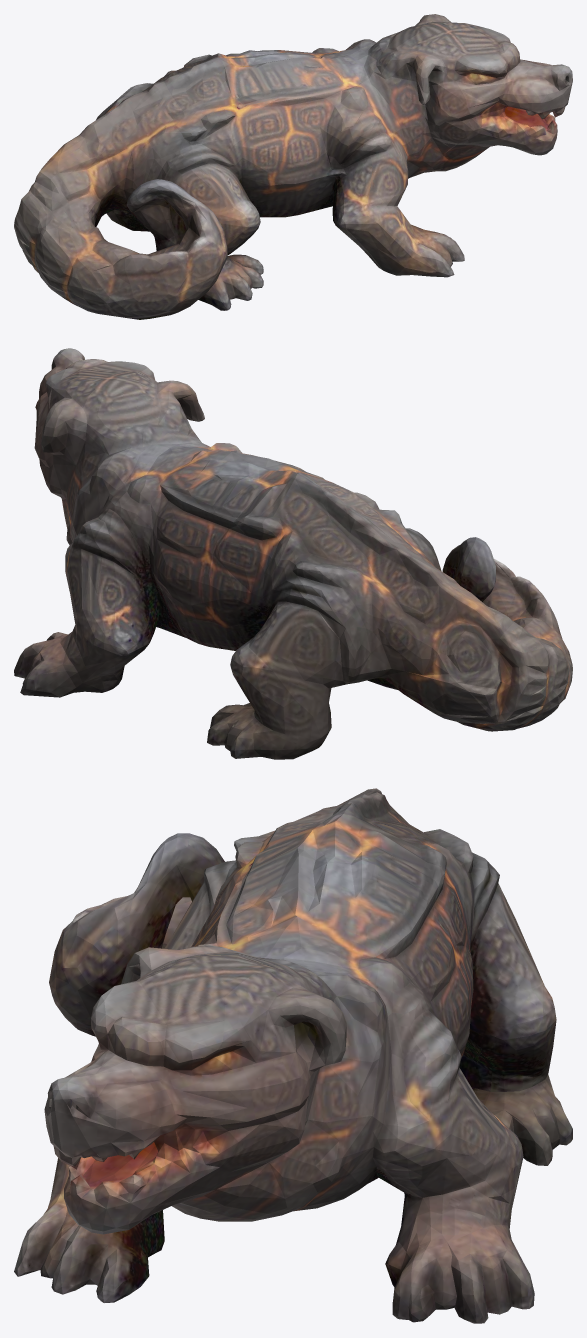
Rendered from cinderlizardHound.glb.
3 views of the same model, one above another, from view 1: azimuth 30°, elevation 25°; view 2: azimuth 150°, elevation 25°; view 3: azimuth 270°, elevation 25° (orthographic). The views are drawn at different scales.
Parts seen in each view (by area): view 1: world; view 2: world; view 3: world.
Part boxes in pixels (x1,y1,x2,y2): world: (14,14,572,319); world: (14,348,572,759); world: (14,788,572,1323).
Bounding box in the file's own units: 0.9996 × 0.4025 × 0.5659.
Materials: 1 (1 with a texture image).
